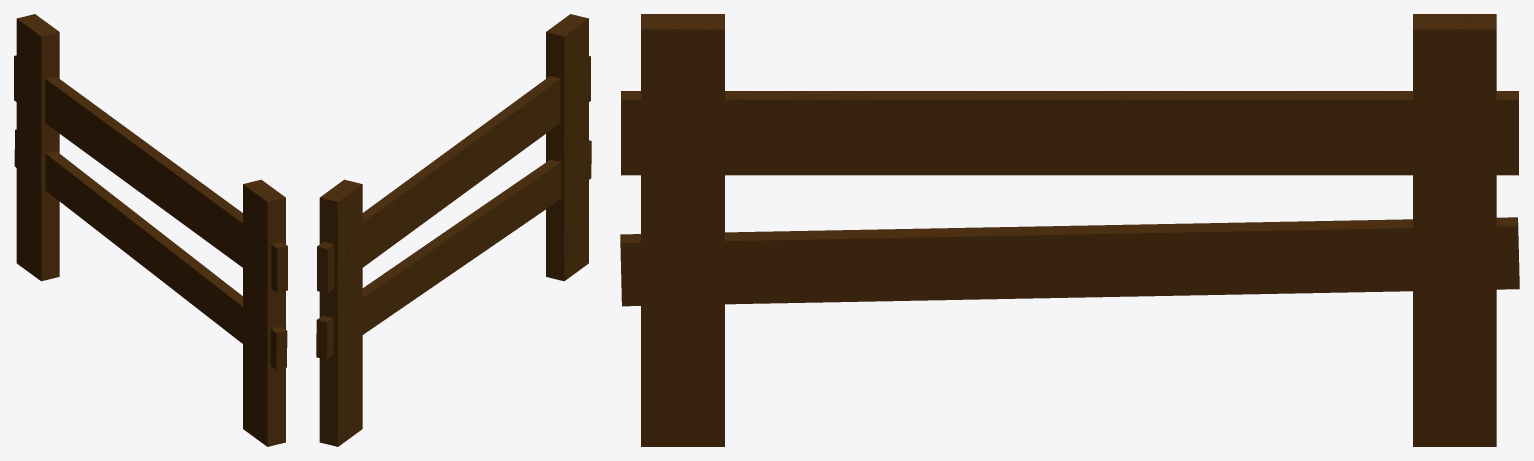
File: Clôture.fbx
3 views of the same model, side by side, from view 1: azimuth 30°, elevation 25°; view 2: azimuth 150°, elevation 25°; view 3: azimuth 270°, elevation 25° (orthographic). The views are drawn at different scales.
Parts seen in each view (by area): view 1: Cube.001; view 2: Cube.001; view 3: Cube.001.
Boxes of the visible parts, <box> form: Cube.001: <box>14,14,287,446</box>; Cube.001: <box>316,14,591,446</box>; Cube.001: <box>620,14,1519,446</box>.
Size of the model in its own units: 16.38 by 208 by 406.
Materials: 1 (1 with a texture image).
